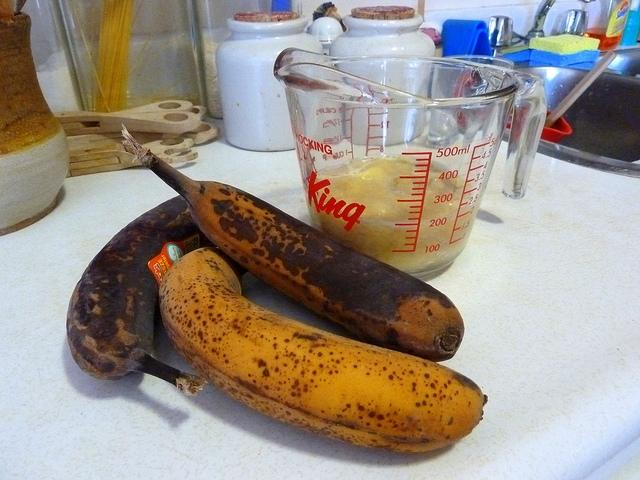banana: (123, 125, 465, 362), (158, 246, 488, 452), (66, 195, 218, 396)
